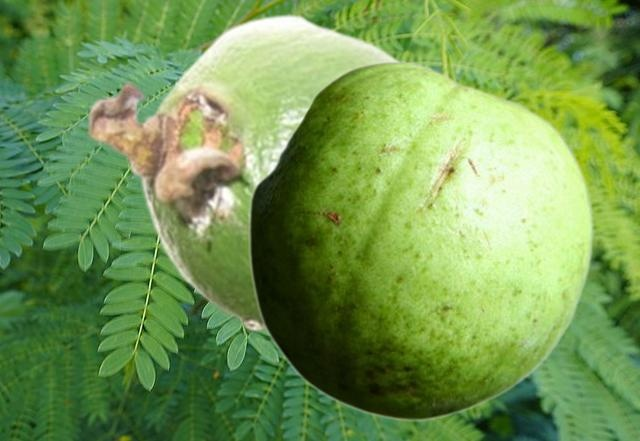guava: (248, 61, 592, 420), (85, 12, 403, 331)
